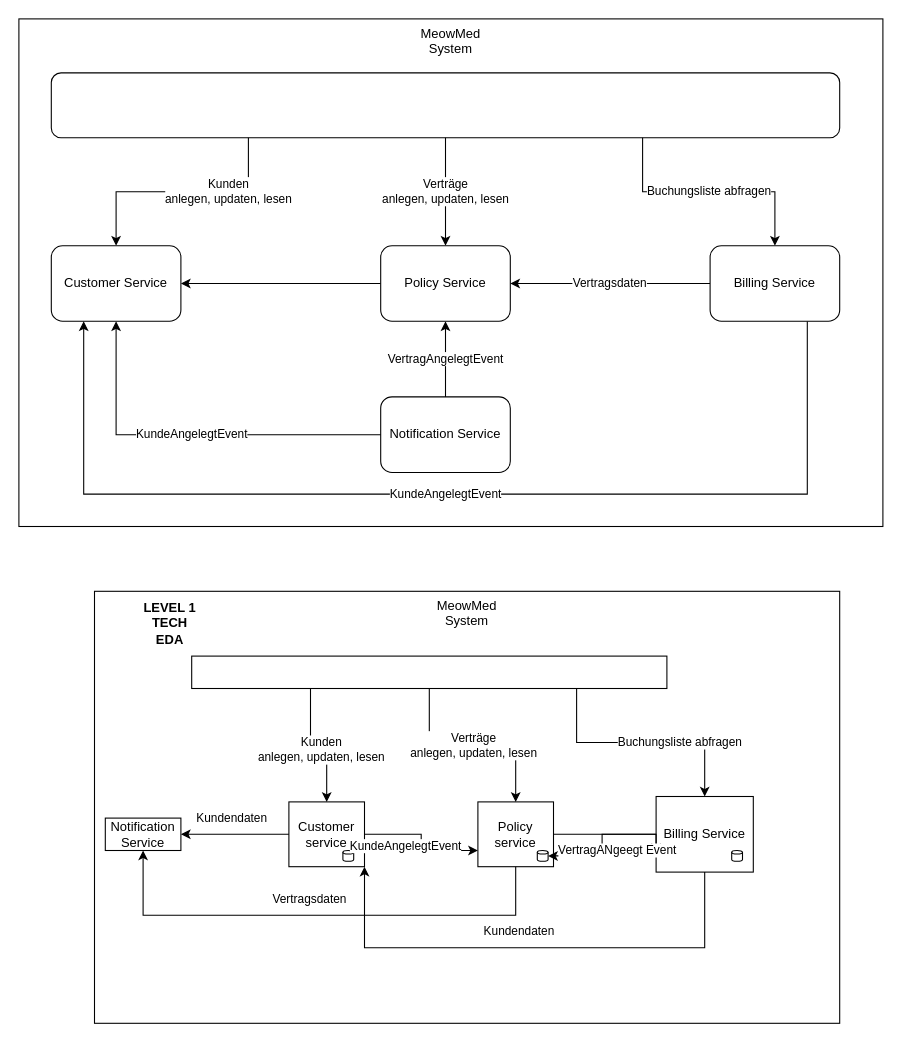
The diagram is 902 pixels wide and 1042 high, and some of its shapes have lost their labels. Each missing label, with the centre of its shape:
MeoMed UI: (445,105)
MeowMed UI: (429,671)
